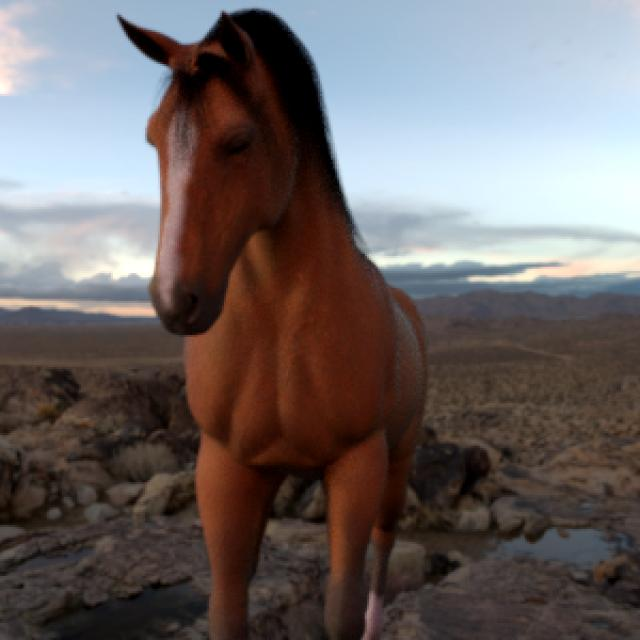horse: (119, 10, 425, 639)
